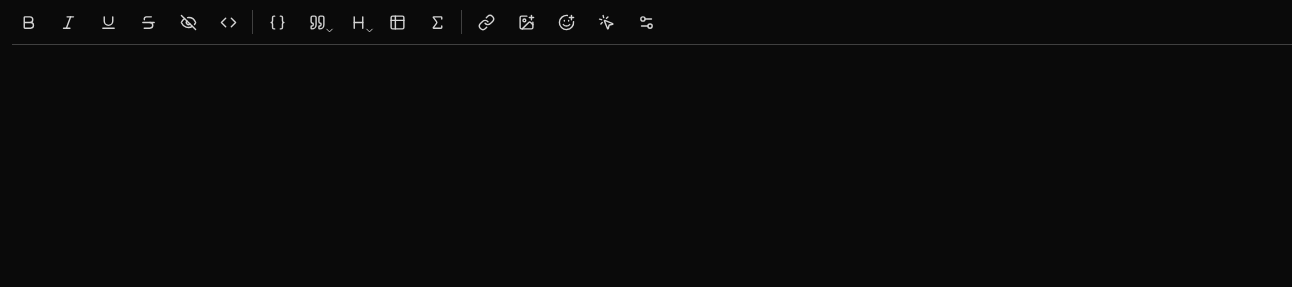
TelegramTextEditorToolbar › closes the open formatting menu after an outside click
Click the button named "Heading": [357, 22] box [341,6,373,38]
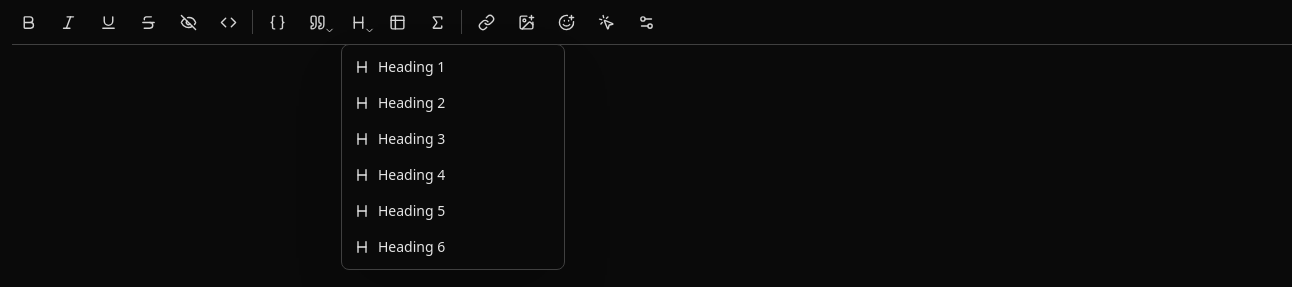
Check: the menu is shown, box [341,44,565,270]
Click the element showing "Heading 1 Heading 2 Heading 3 Heading 4 Heading 5 Heading 6": [652, 22] box [12,0,1291,45]
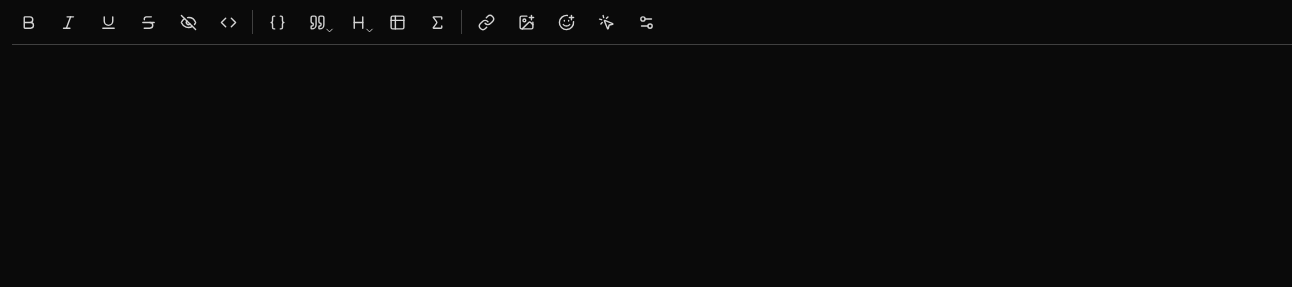
Check: the menu is gone
